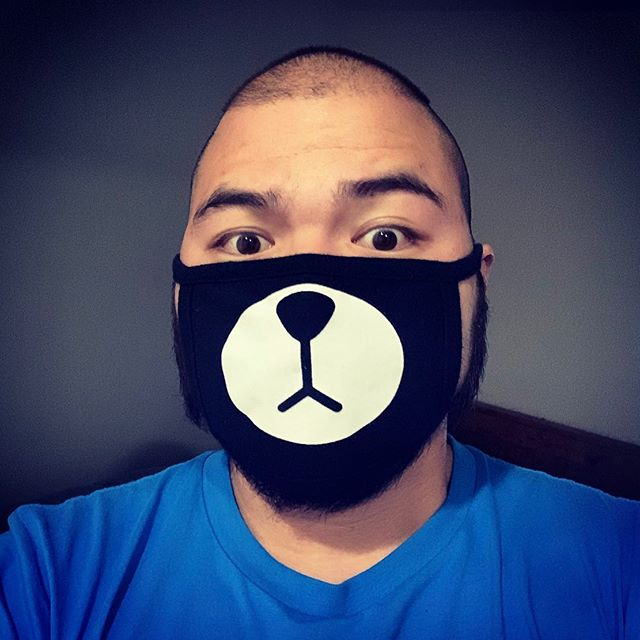homemade: (164, 258, 513, 504)
